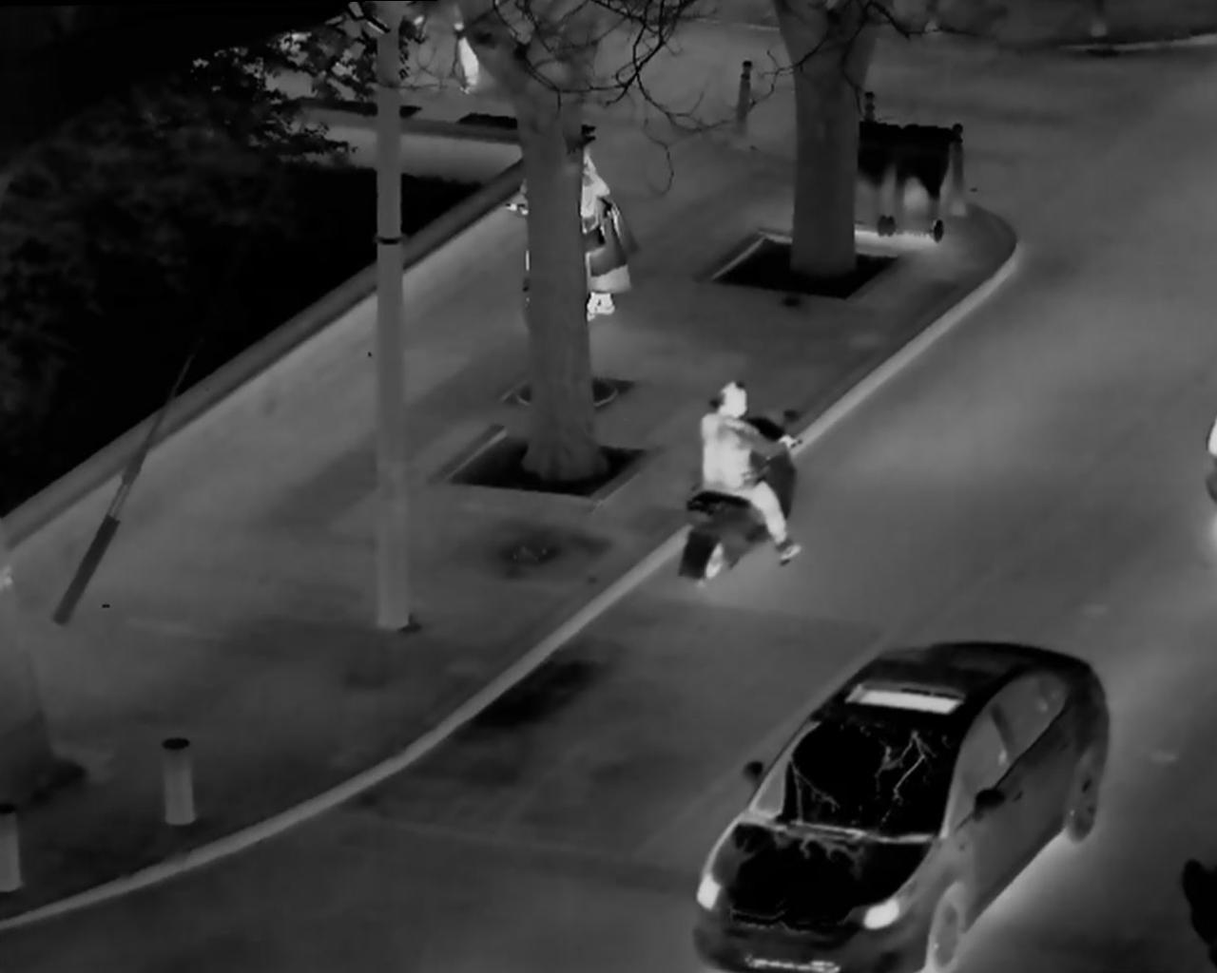person: (676, 353, 820, 589), (545, 119, 636, 326)
